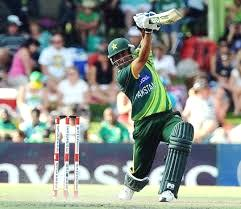batsman: (80, 2, 221, 209)
